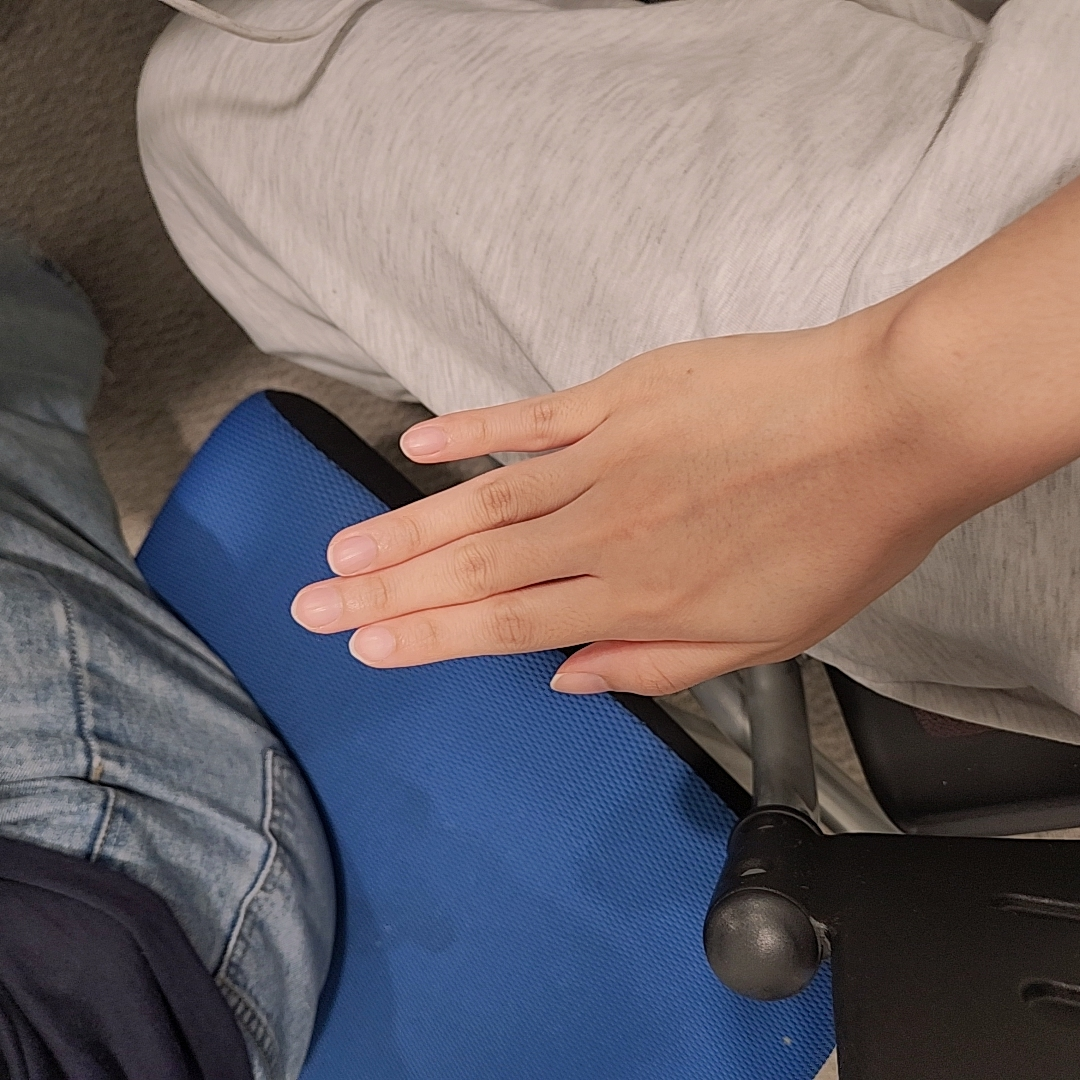me: (288, 325, 927, 700)
